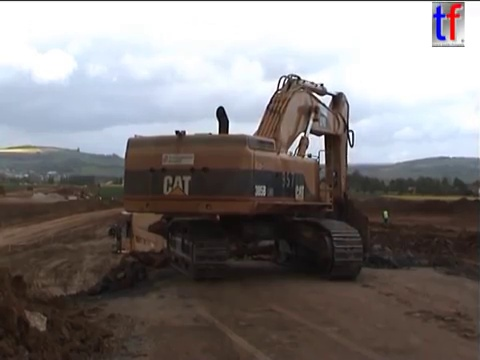excavator: (119, 71, 373, 284), (70, 184, 97, 204)
truck: (106, 208, 287, 288), (1, 182, 9, 200), (25, 182, 36, 194)
worker: (380, 206, 391, 225)
